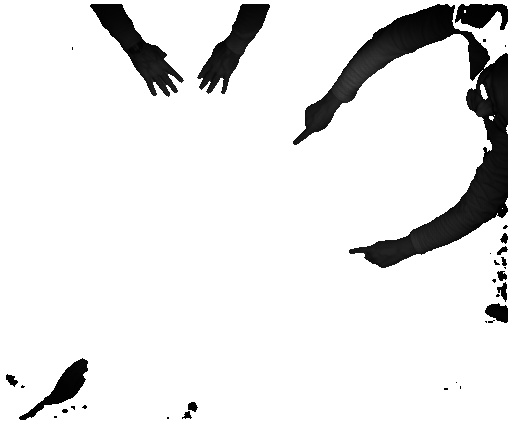hand: (288, 97, 337, 151), (134, 48, 183, 100), (192, 49, 241, 95), (344, 238, 410, 271), (51, 352, 87, 404)
